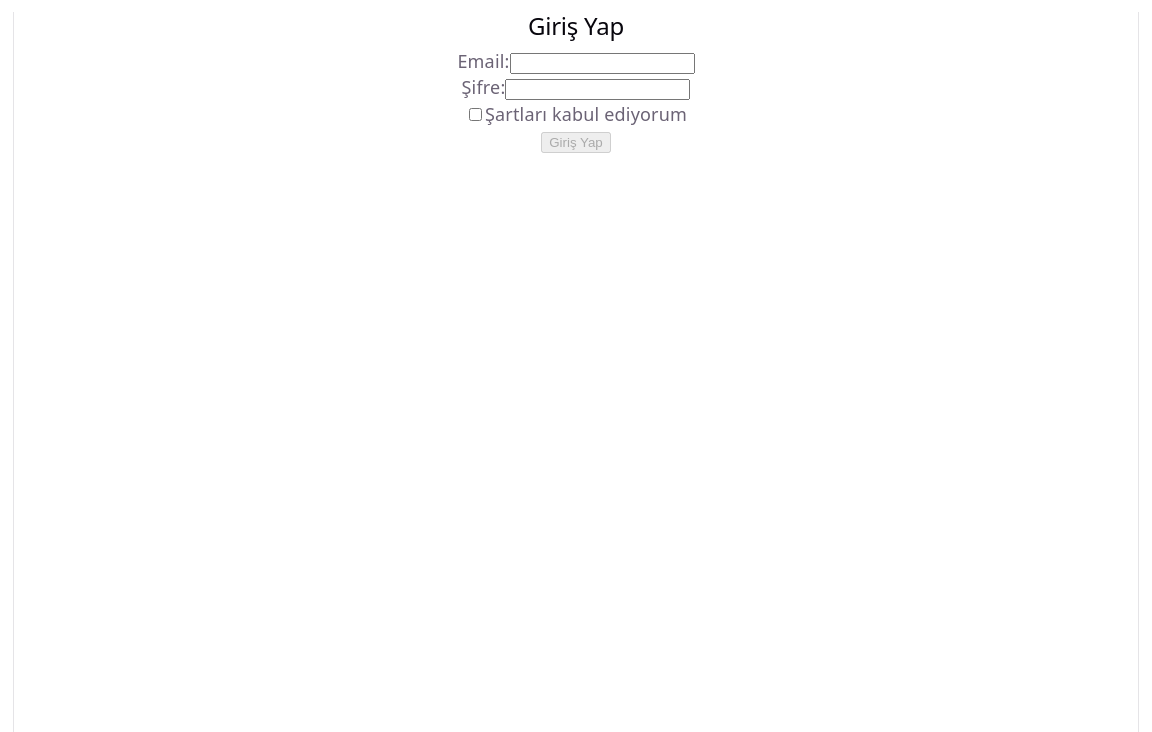
Scenario: Login Formu E2E Testleri › Hatalı email girildiğinde hata mesajı görünmeli ve buton disabled kalmalı
Type "yanlis-email" into the field named "email" at {"x": 603, "y": 64}, box x1=510 y1=53 x2=695 y2=74
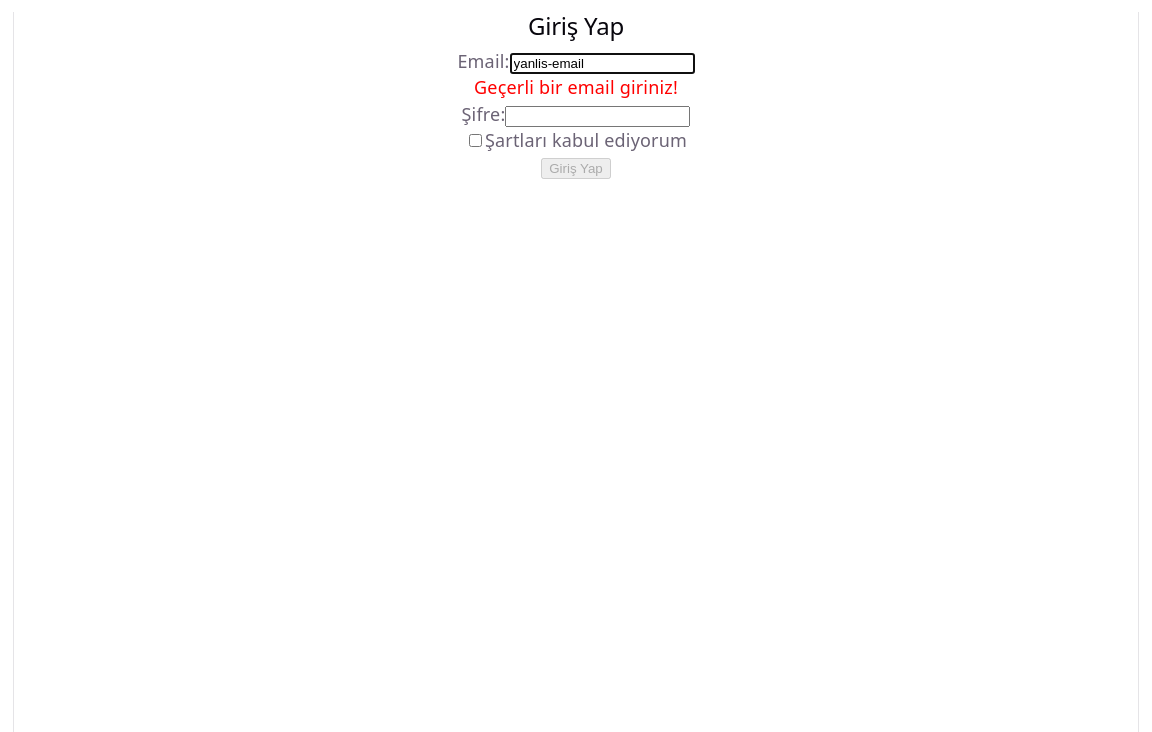
Expected: the button "Giriş Yap" is disabled, x1=541 y1=158 x2=611 y2=179
Result: the number of elements with class "error" is 1 at x1=474 y1=75 x2=678 y2=99
Result: the text with class "error" reads "Geçerli bir email giriniz!" at x1=474 y1=75 x2=678 y2=99
